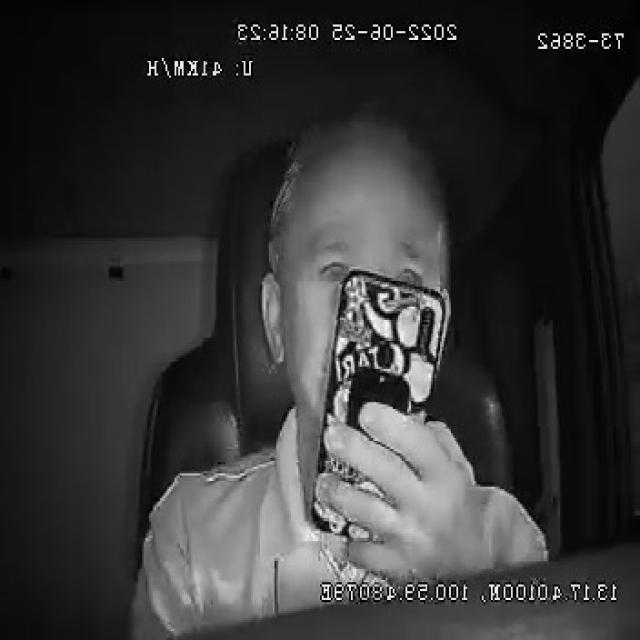phone: (312, 270, 446, 540)
